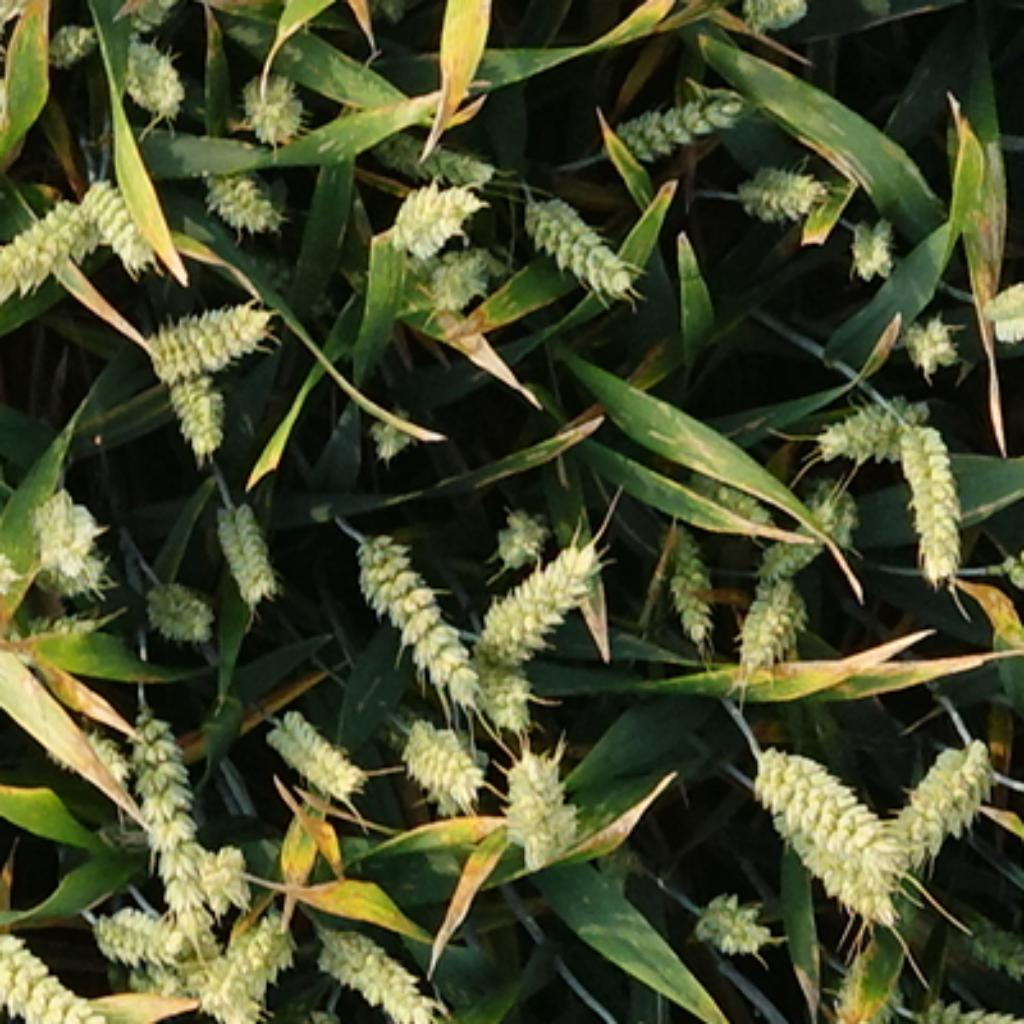0-0: (743, 727, 909, 933), (107, 704, 232, 916), (345, 517, 476, 696), (468, 532, 606, 663), (875, 727, 998, 867), (313, 908, 449, 1024), (519, 174, 637, 294), (885, 401, 967, 573), (0, 910, 117, 1024), (0, 184, 104, 309), (609, 69, 750, 161), (194, 911, 307, 1024), (345, 117, 509, 189), (140, 286, 273, 373), (258, 691, 368, 793), (494, 737, 583, 860), (0, 606, 128, 683), (20, 473, 104, 583), (812, 395, 929, 470), (818, 938, 918, 1024), (26, 725, 137, 801), (221, 241, 331, 317), (396, 706, 486, 798), (204, 488, 279, 596), (74, 168, 156, 266), (732, 563, 811, 660), (384, 168, 478, 248), (683, 465, 778, 542), (655, 519, 716, 634), (683, 878, 775, 954), (156, 355, 230, 448), (729, 148, 826, 217), (192, 153, 281, 227), (87, 893, 184, 960), (775, 476, 860, 552), (116, 40, 190, 124), (750, 512, 844, 578), (460, 642, 537, 721), (954, 898, 1024, 983), (138, 565, 217, 640), (419, 232, 499, 304), (107, 952, 199, 1011), (235, 64, 307, 138), (194, 844, 266, 911), (893, 302, 960, 366), (35, 545, 112, 593), (363, 399, 419, 465), (491, 496, 550, 558), (844, 207, 898, 273), (975, 279, 1024, 348), (735, 0, 813, 39), (40, 22, 107, 65)
